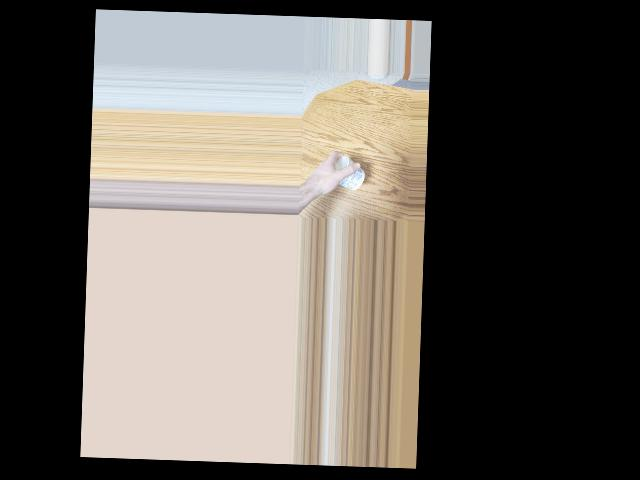cotage: (331, 156, 364, 192)
